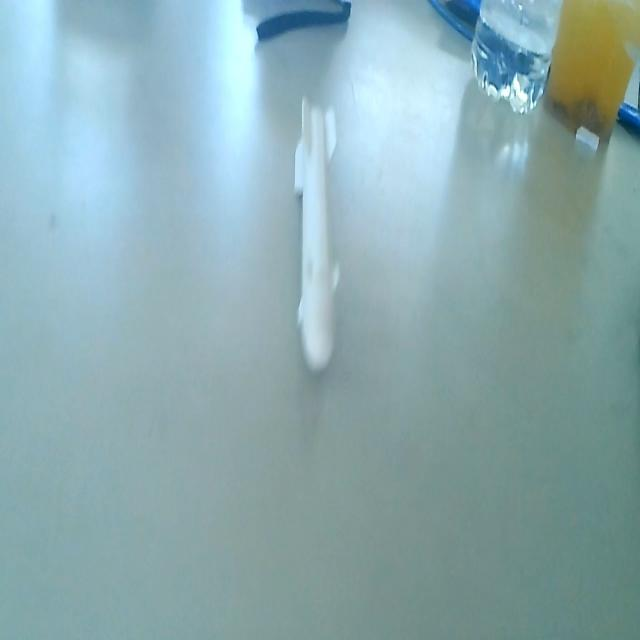Rocket: (288, 97, 345, 380)
